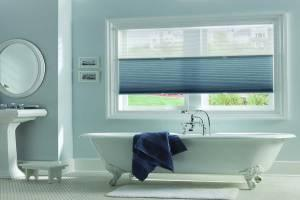window: (105, 15, 282, 116)
